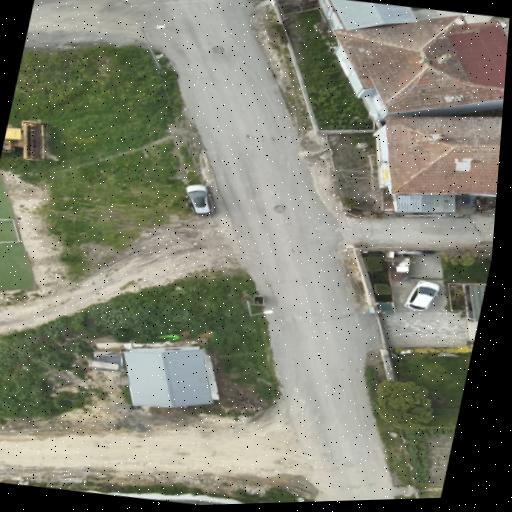car: (404, 281, 439, 310), (185, 185, 213, 216)
harvester: (2, 121, 48, 161)
